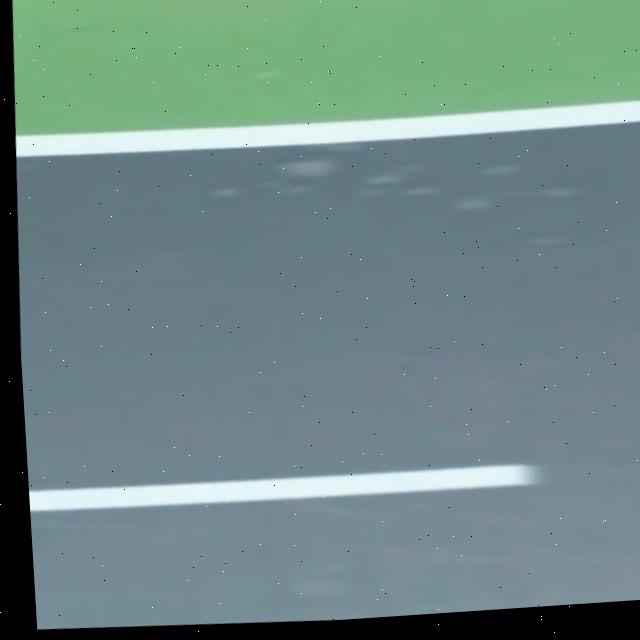center: (29, 465, 538, 511)
right: (14, 100, 640, 156)
